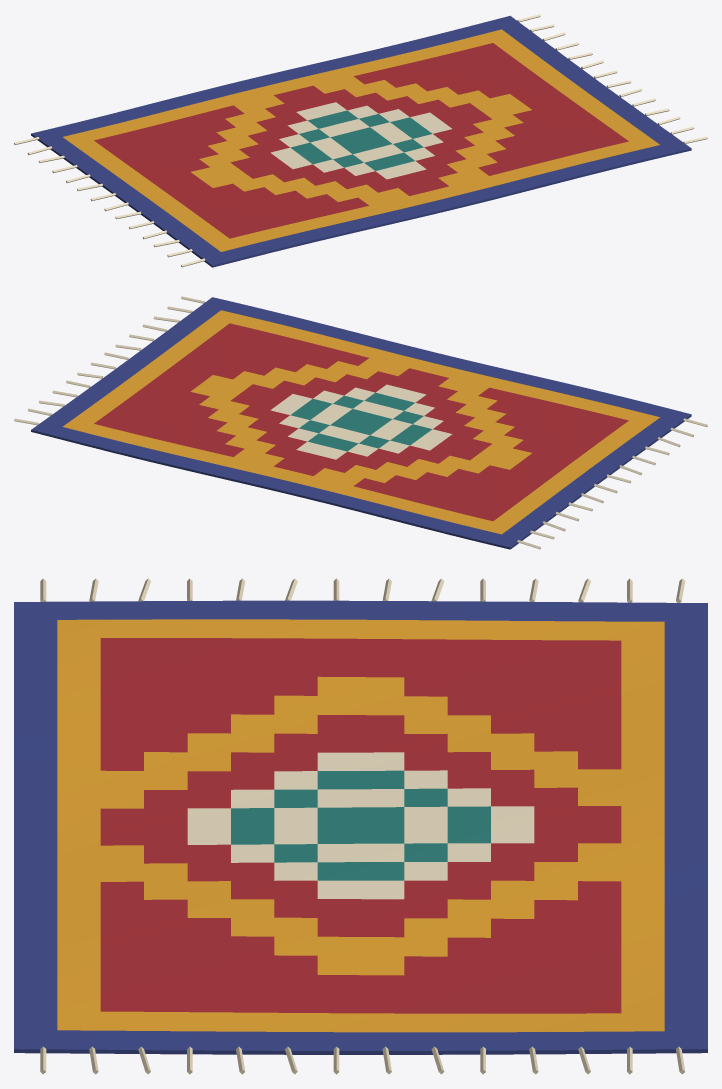
File: deco_rug_rect.fbx
3 views of the same model, one above another, from view 1: azimuth 30°, elevation 25°; view 2: azimuth 150°, elevation 25°; view 3: azimuth 270°, elevation 25° (orthographic). The views are drawn at different scales.
Parts seen in each view (by area): view 1: Rug_Rect_Rug, Rug_Rect_Tassels; view 2: Rug_Rect_Rug, Rug_Rect_Tassels; view 3: Rug_Rect_Rug, Rug_Rect_Tassels.
Part boxes in pixels (x1,y1,x2,y2): Rug_Rect_Rug: [31, 15, 691, 267]; Rug_Rect_Tassels: [14, 14, 707, 267]; Rug_Rect_Rug: [31, 297, 691, 549]; Rug_Rect_Tassels: [14, 296, 707, 549]; Rug_Rect_Rug: [14, 600, 707, 1054]; Rug_Rect_Tassels: [40, 578, 685, 1074].
Bounding box in the file's own units: 318 × 2.6 × 190.
